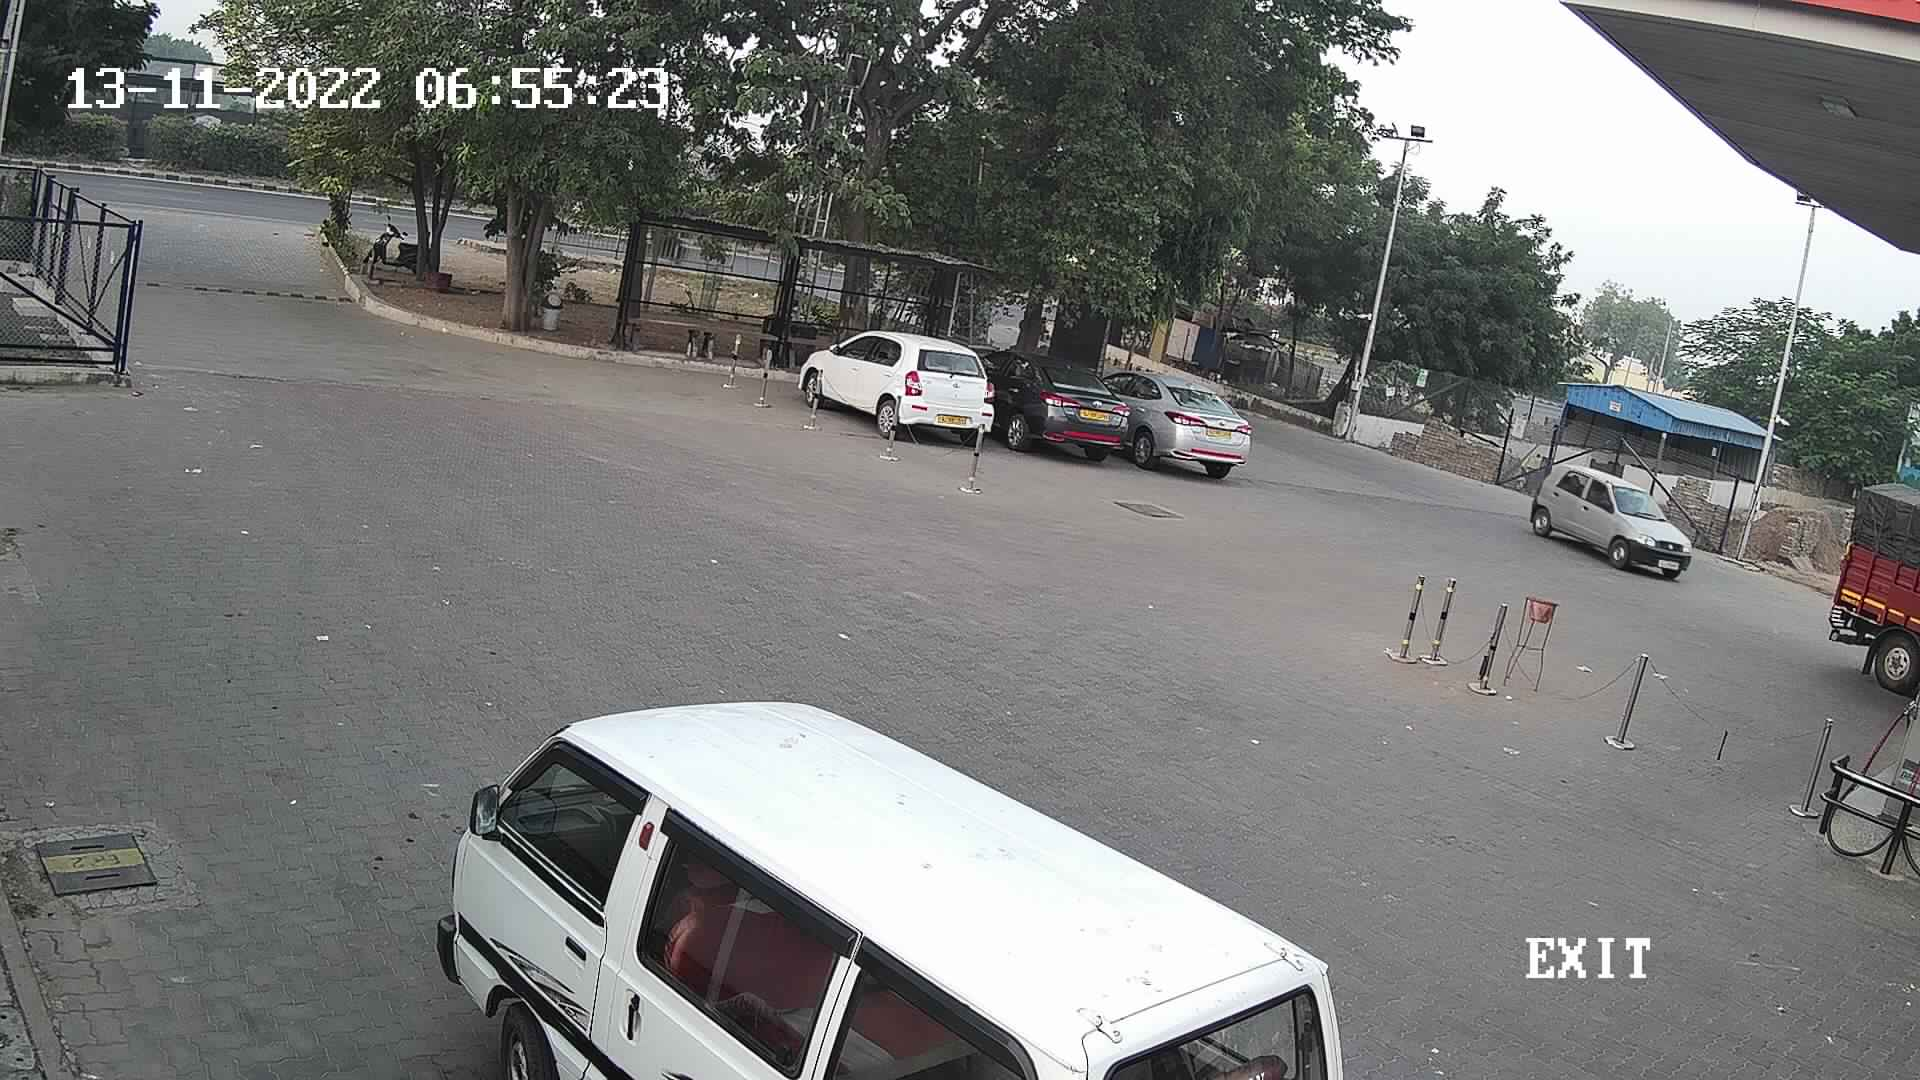Bike: (353, 200, 429, 290)
Car: (422, 695, 1364, 1077), (785, 324, 1000, 452), (1519, 442, 1697, 585), (968, 339, 1139, 465), (1093, 357, 1258, 487)
HMV: (1816, 459, 1919, 738)
